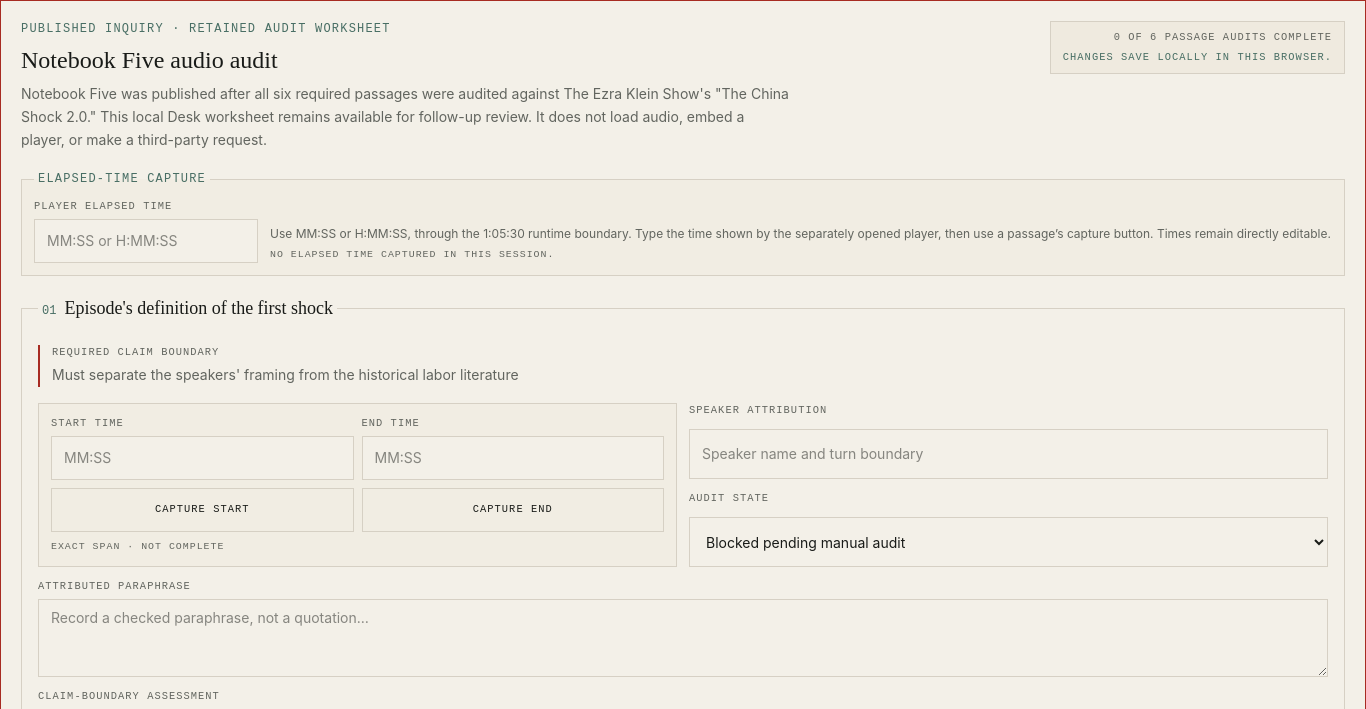
Test: NotebookFiveAudioAudit › rejects capture times beyond the publisher runtime
Type "66:00" into the field labelled "Player elapsed time" at x=146, y=241, box [34,219,258,263]
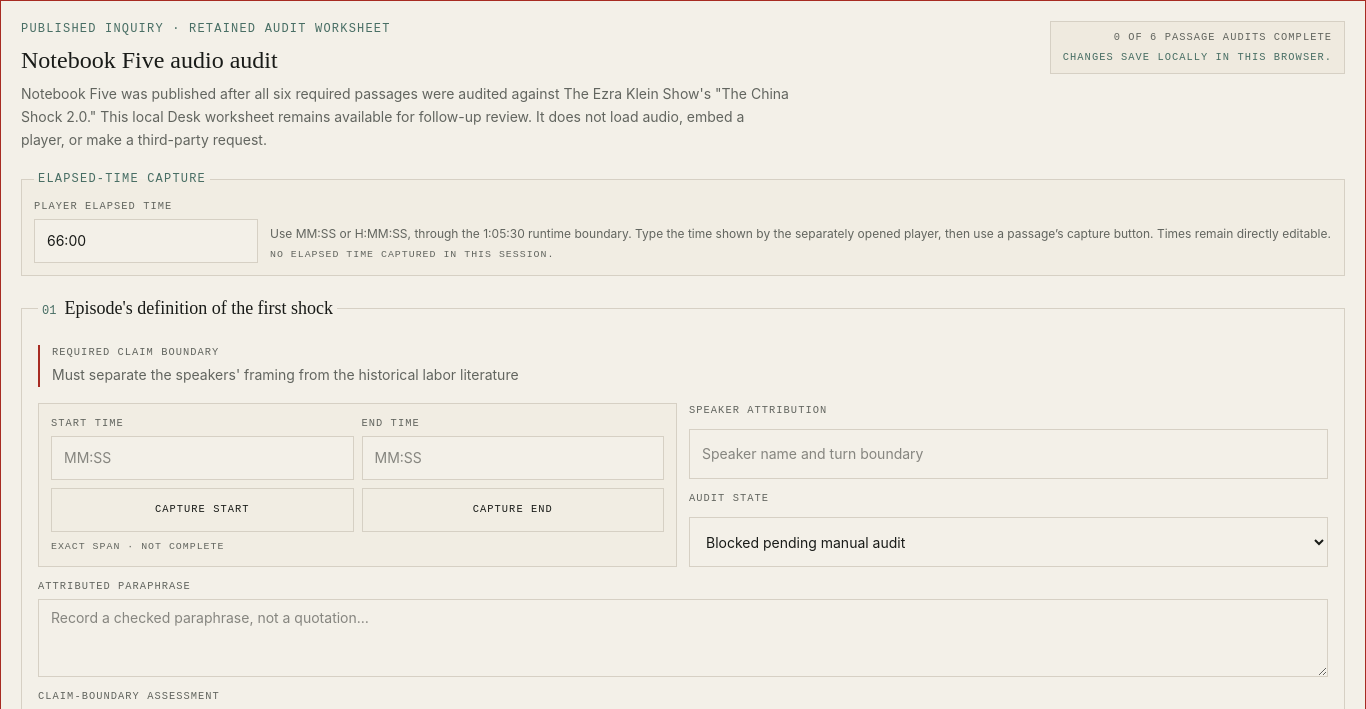
Click the button with aria-label "Capture start for Episode's definition of the first shock" at x=202, y=510, box [51,488,354,532]
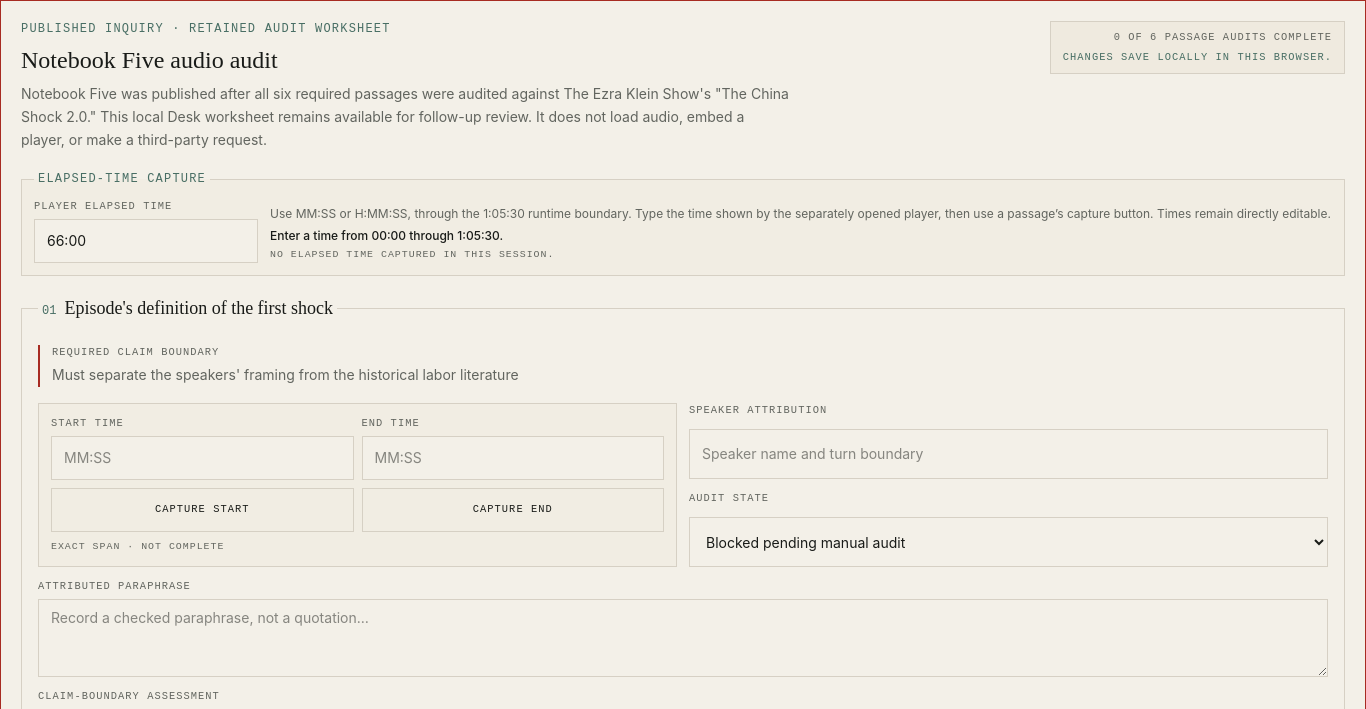
Check: the message shows "Enter a time from 00:00 through 1:05:30", box [270,228,503,243]
